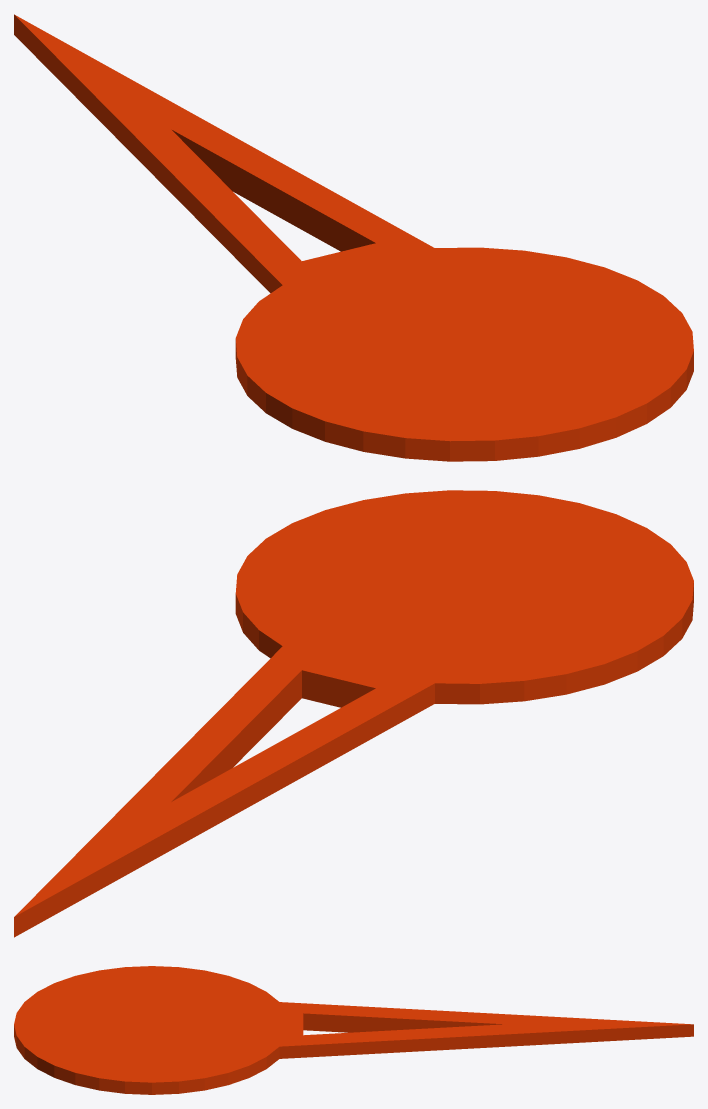
Rendered from pressureNeedle.fbx.
3 renders of one model, top to bottom at view 1: azimuth 30°, elevation 25°; view 2: azimuth 150°, elevation 25°; view 3: azimuth 270°, elevation 25°, orthographic. The views are drawn at different scales.
Visible parts, largest first — view 1: Cylinder.001; view 2: Cylinder.001; view 3: Cylinder.001.
Boxes of the visible parts, x1,y1,x2,y2 form: Cylinder.001: [14, 14, 693, 461]; Cylinder.001: [14, 490, 693, 937]; Cylinder.001: [14, 966, 693, 1094].
Bounding box in the file's own units: 2.97 × 44.1 × 109.
